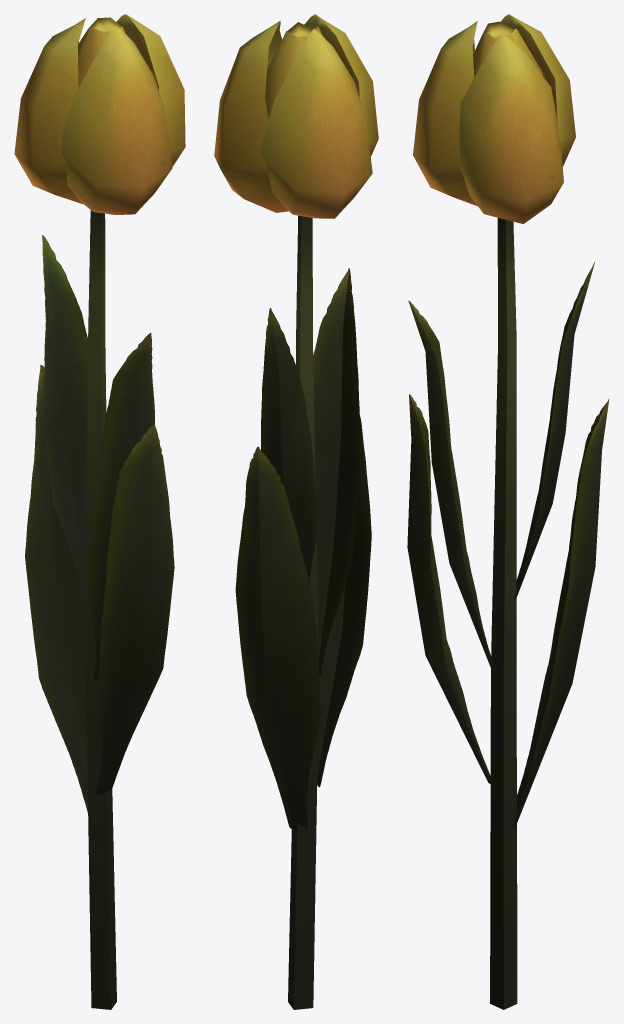
File: Flower_A08.fbx
3 renders of one model, left to right at view 1: azimuth 30°, elevation 25°; view 2: azimuth 150°, elevation 25°; view 3: azimuth 270°, elevation 25°, orthographic.
Parts seen in each view (by area): view 1: Flower_A08; view 2: Flower_A08; view 3: Flower_A08.
Boxes of the visible parts, x1,y1,x2,y2 form: Flower_A08: (14, 14, 185, 1009); Flower_A08: (214, 14, 378, 1009); Flower_A08: (407, 14, 609, 1009).
Size of the model in its own units: 5.97 by 38.26 by 7.15.
